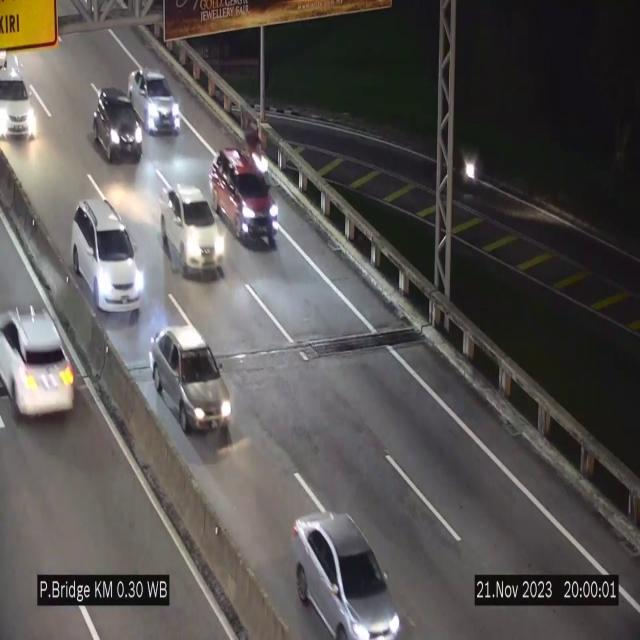Car: (292, 513, 402, 639), (0, 288, 78, 419), (150, 326, 232, 436), (71, 200, 145, 314), (207, 140, 276, 246), (160, 186, 226, 277), (93, 88, 143, 162), (128, 70, 182, 132), (0, 70, 40, 150)
Motorcycle: (445, 134, 479, 198), (244, 117, 276, 177)
